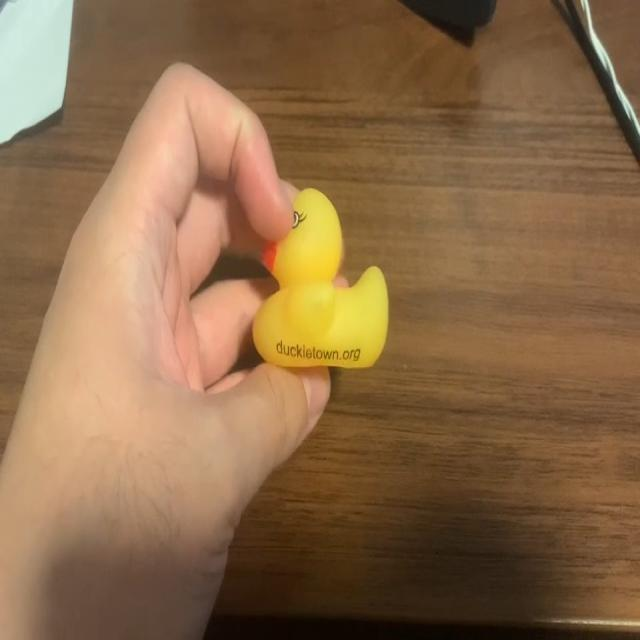rubber-duck: (252, 187, 386, 366)
